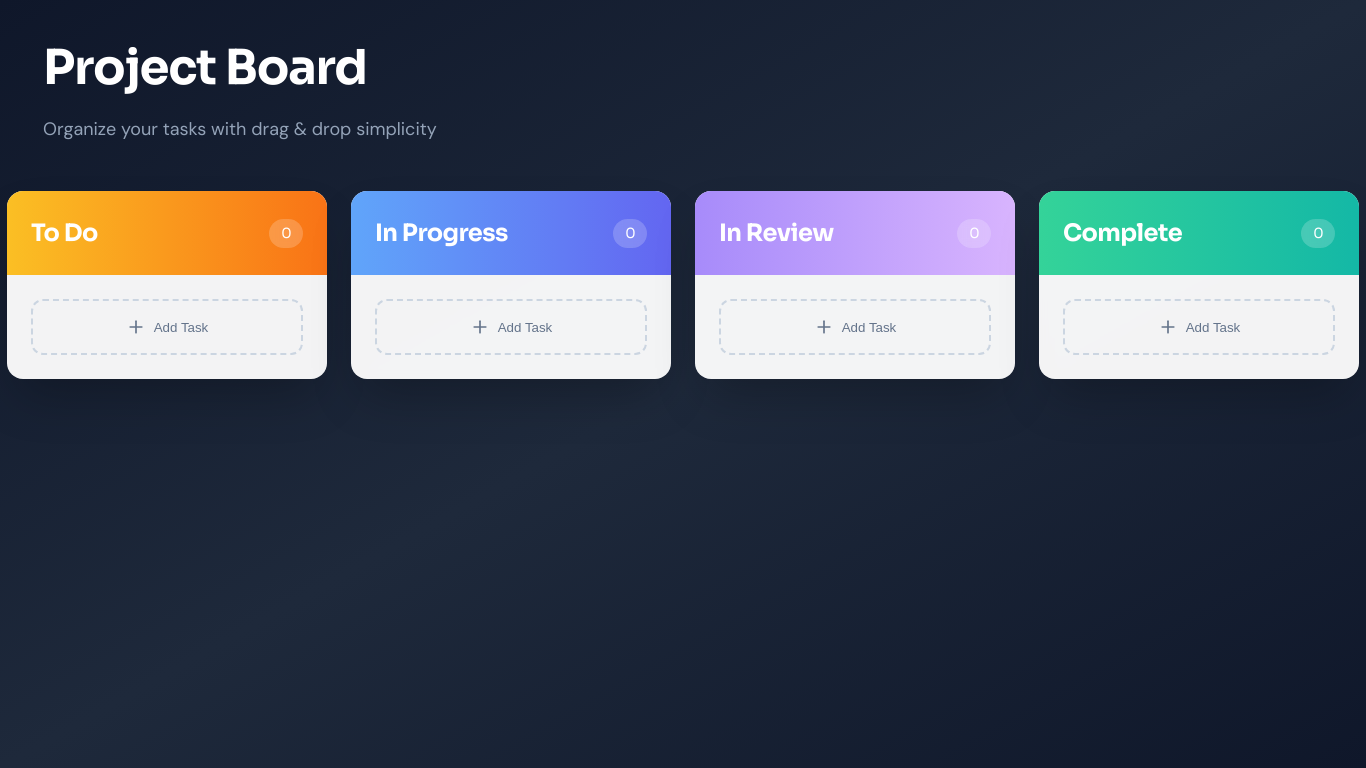
Test case: App › Adding Tasks › adds task to todo column
Note: Click to show input
Click the button "Add Task" below "To Do" at (167, 327), box [31,299,303,355]
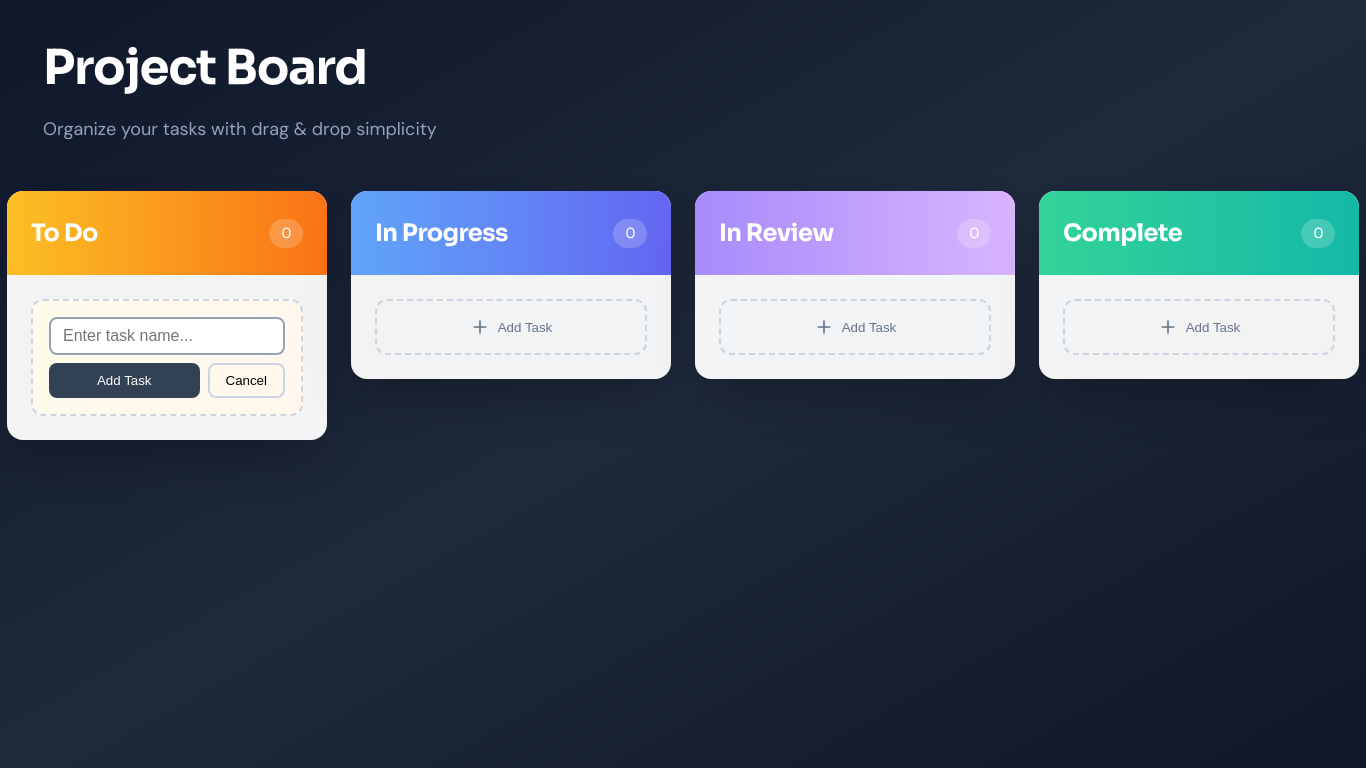
Note: Find and fill the input
Type "New Todo Task" into the field with placeholder "Enter task name..." at (167, 336), box [49,317,285,355]
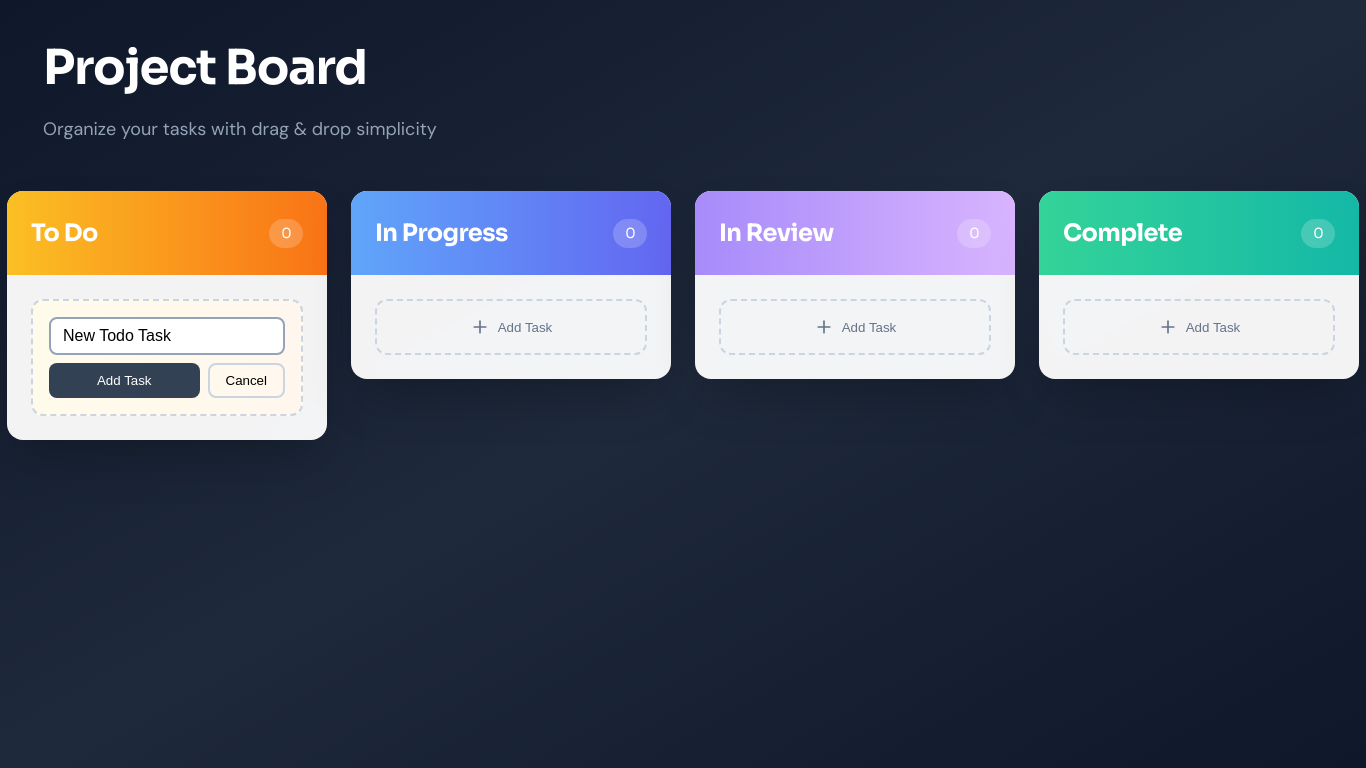
Note: Find the Add Task button in the input form
Click the button "Add Task" below "To Do" at (124, 380), box [49,363,200,398]
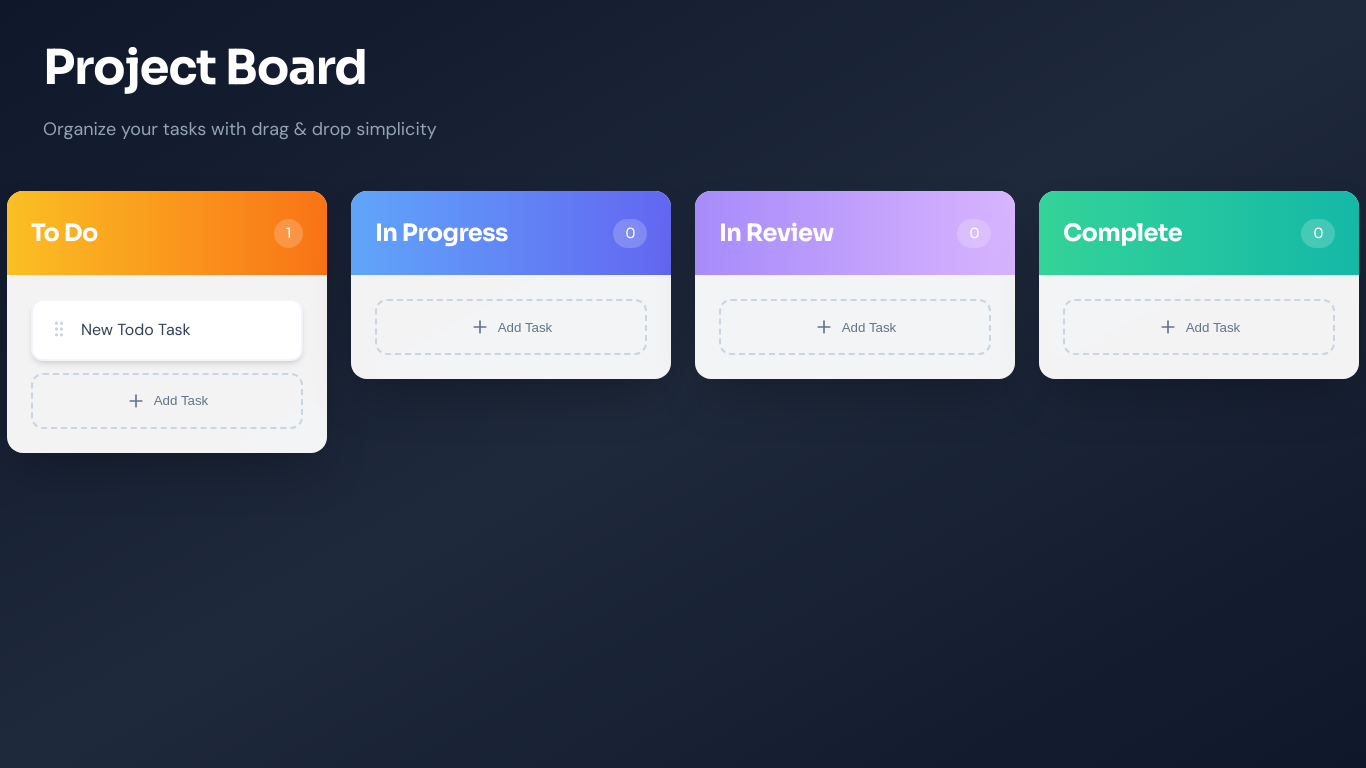
Check: the text "New Todo Task" is shown, box [81,319,191,340]
